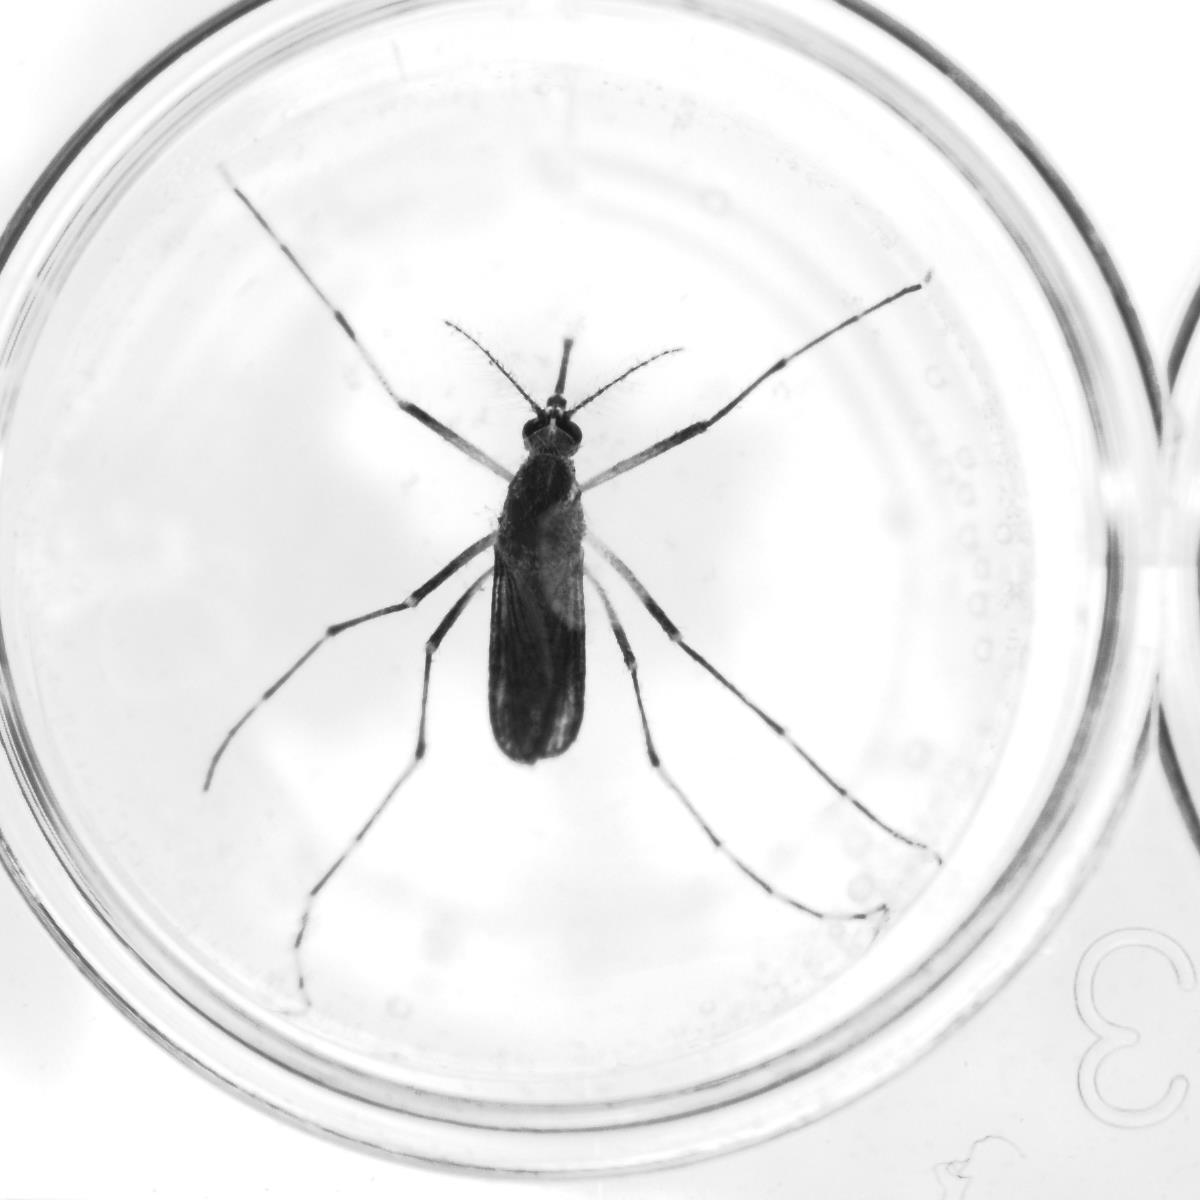f-a: (451, 326, 654, 422)
f-b: (213, 196, 973, 1003)
